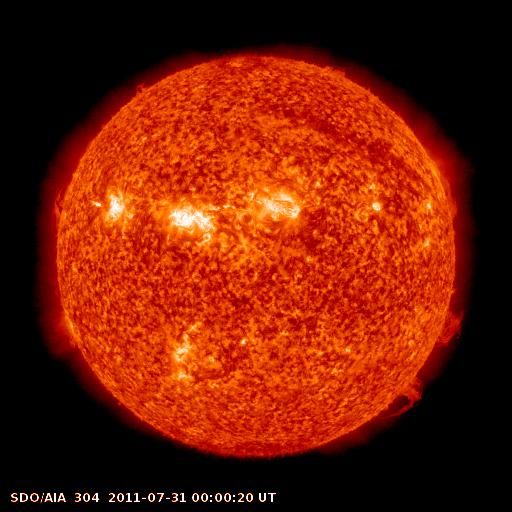prominence: (426, 155, 463, 225), (380, 369, 427, 422), (426, 301, 471, 356), (46, 178, 73, 228), (125, 73, 156, 106)
